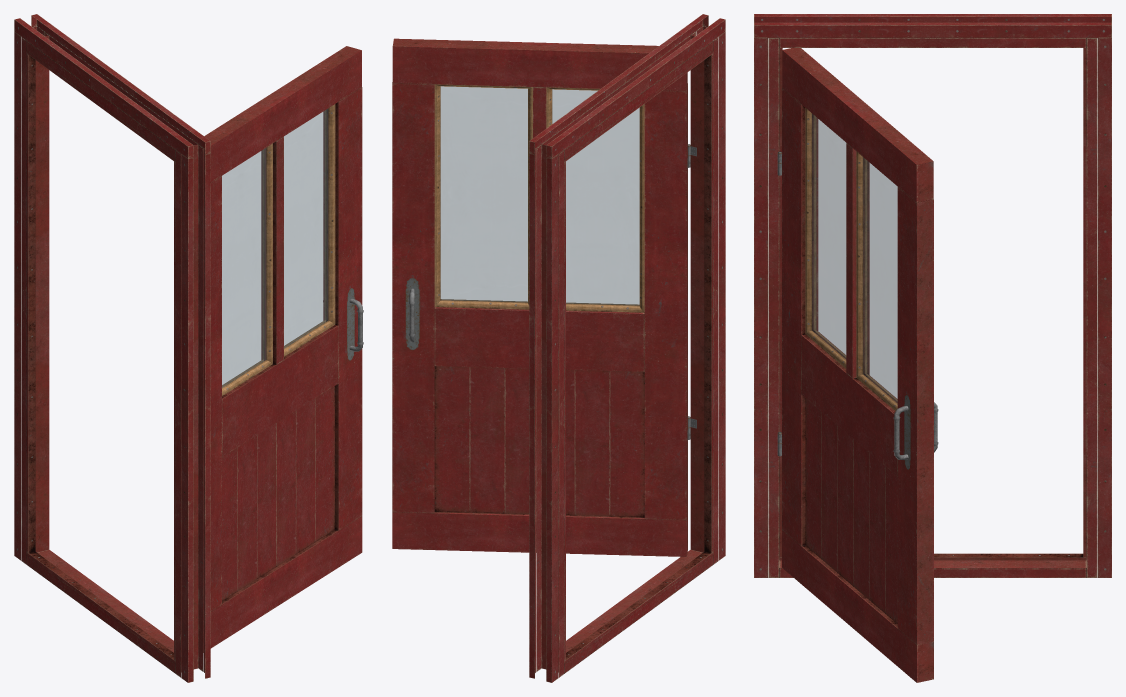
Rendered from door1.glb.
3 views of the same model, side by side, from view 1: azimuth 30°, elevation 25°; view 2: azimuth 150°, elevation 25°; view 3: azimuth 270°, elevation 25° (orthographic). The views are drawn at different scales.
Visible parts, largest first — view 1: Object_4, Object_3; view 2: Object_4, Object_3, Object_2; view 3: Object_4, Object_3.
Boxes of the visible parts, left/top/right/bottom form: Object_4: left=14, top=14, right=363, bottom=682; Object_3: left=222, top=109, right=327, bottom=387; Object_4: left=392, top=14, right=725, bottom=682; Object_3: left=441, top=86, right=639, bottom=305; Object_2: left=405, top=278, right=419, bottom=349; Object_4: left=754, top=14, right=1111, bottom=682; Object_3: left=812, top=114, right=897, bottom=402.
Size of the model in its own units: 5.14 by 10.41 by 6.11.
3 materials, 3 textured.
